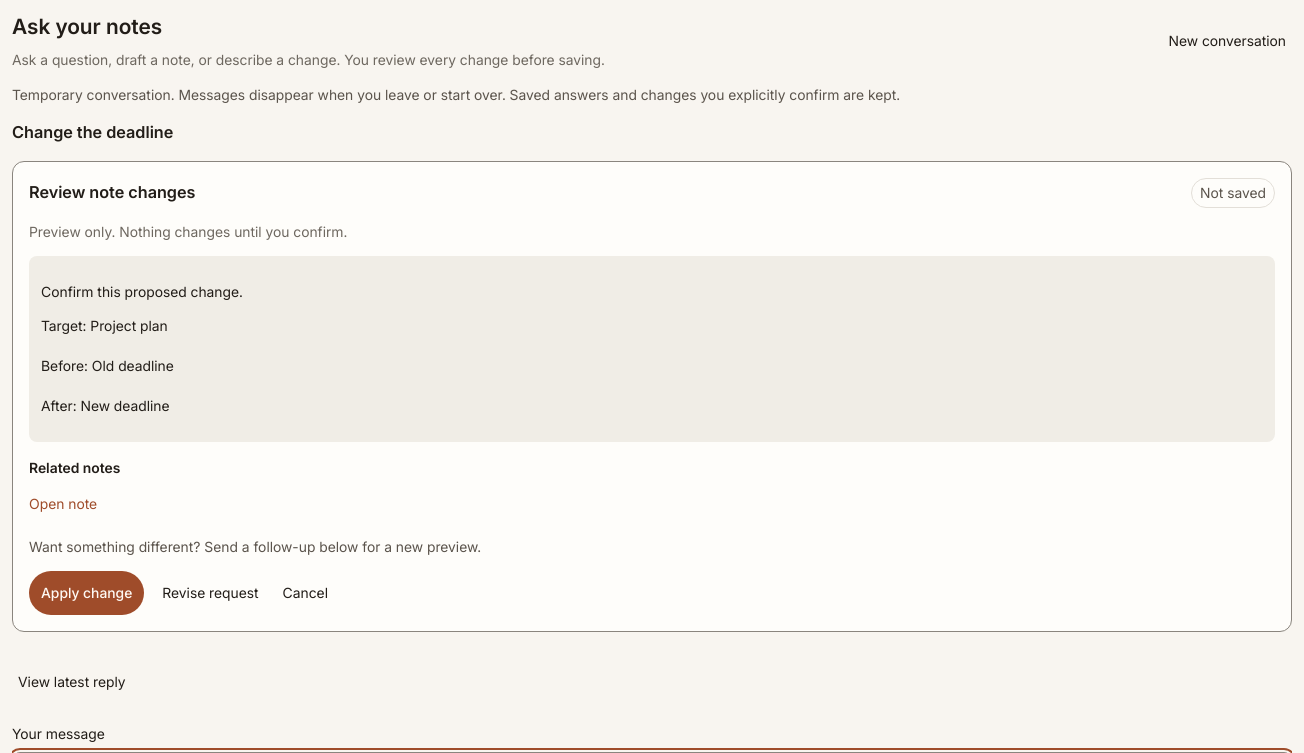
Test case: shows a stale false action refusal honestly even if the response contains a note link
This screenshot has width=1304, height=753.
Step 1. Click the button "Apply change" → click(87, 593), box [29, 571, 144, 615]
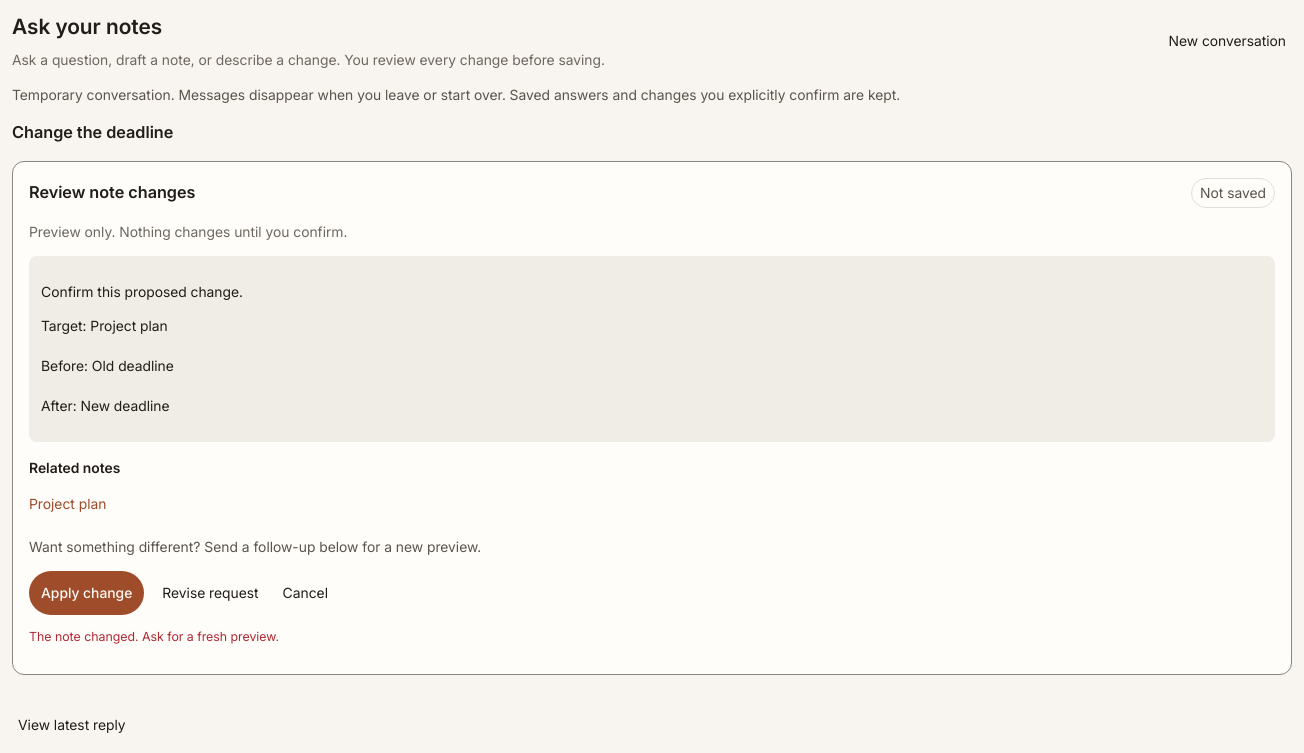
Check: the message reads "The note changed. Ask for a fresh preview.", box [29, 629, 279, 644]
